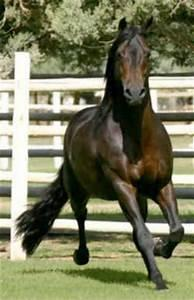horse: (14, 15, 184, 289)
